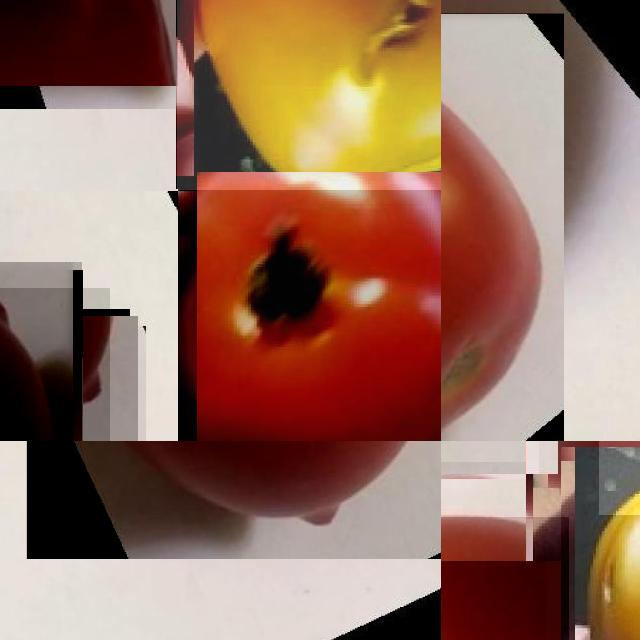Fresh Tomato: (187, 181, 441, 441), (441, 13, 563, 441), (26, 441, 441, 559), (0, 288, 110, 441), (441, 517, 569, 640), (0, 0, 178, 86)
Rotten Tomato: (177, 0, 441, 190), (547, 460, 640, 640)
